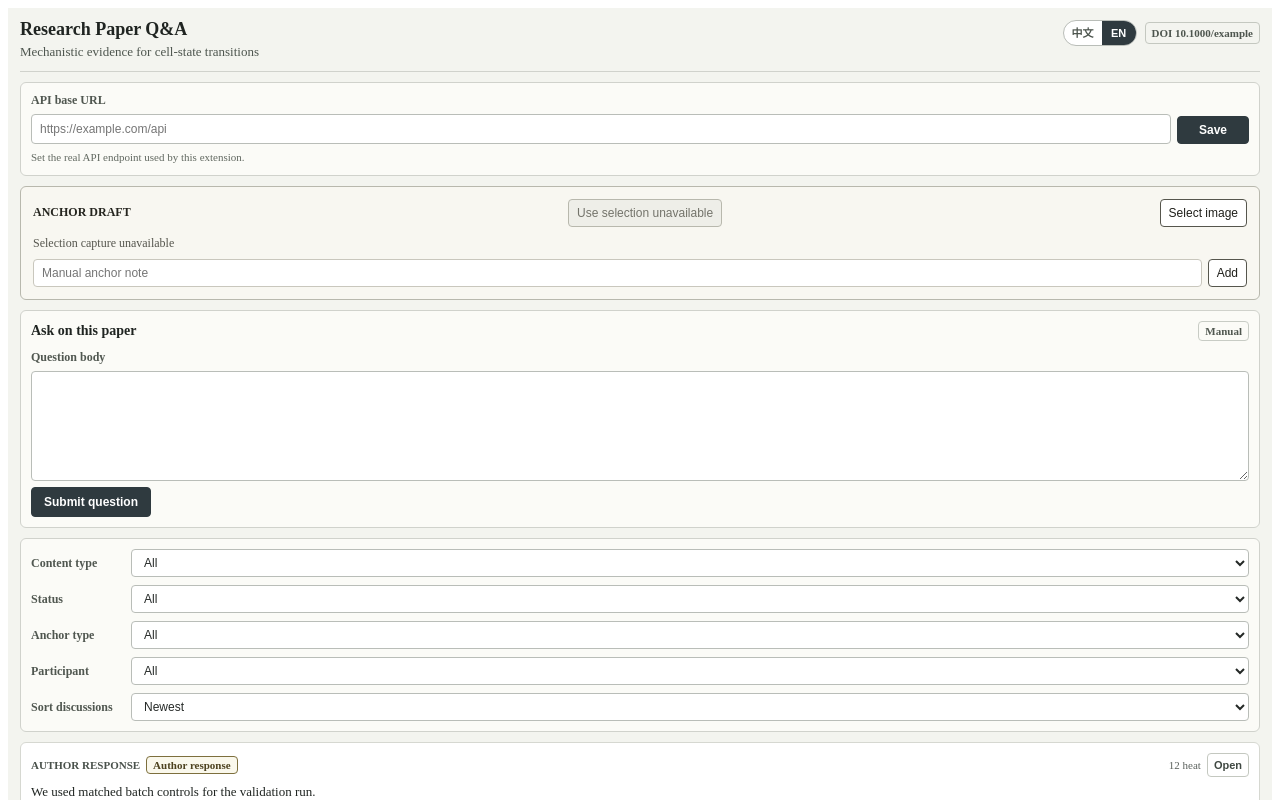
Sidebar discussion UI › status filter hides non-matching rows
Select "Resolved" in the dropdown labelled "Status" at {"x": 690, "y": 599}, box [131,585,1249,613]
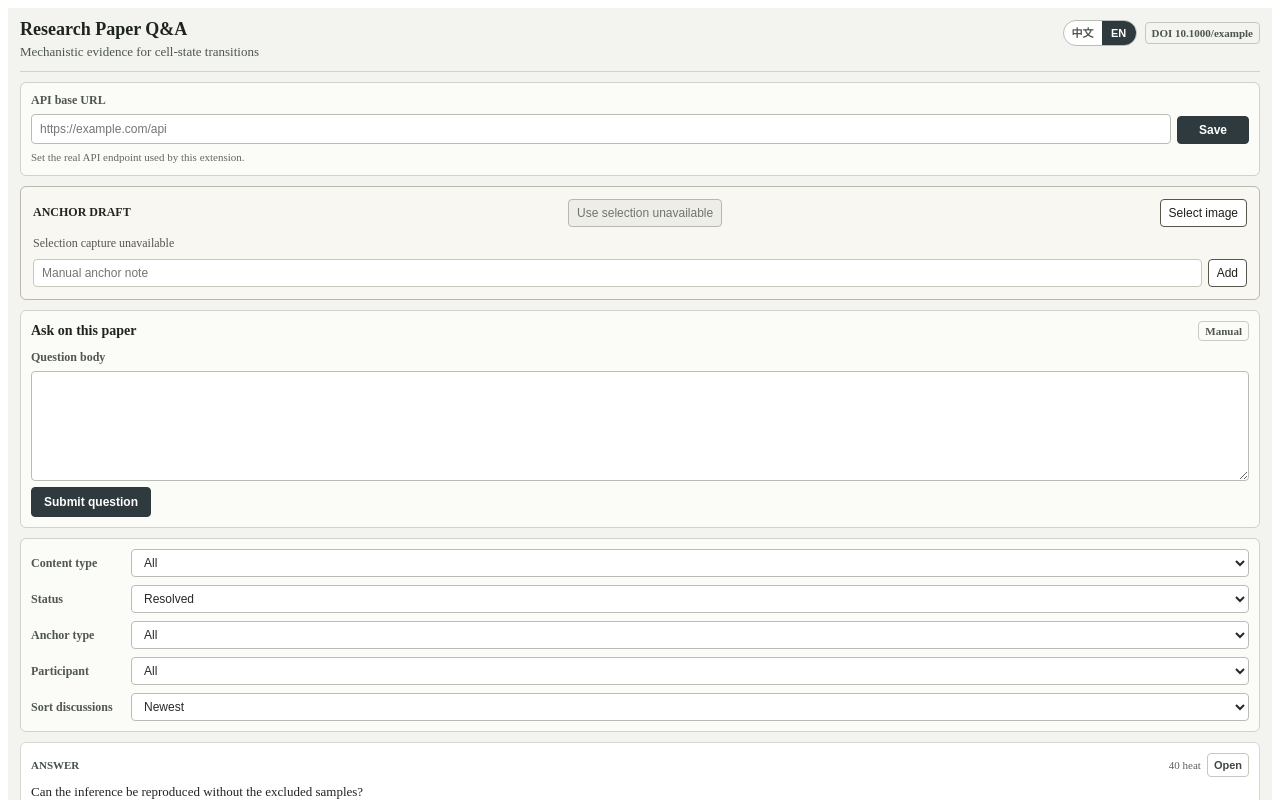
Check: the text "Can the inference be reproduced without the excluded samples?" is shown, box [31,784,363,799]
Check: the text "We used matched batch controls for the validation run." is gone
